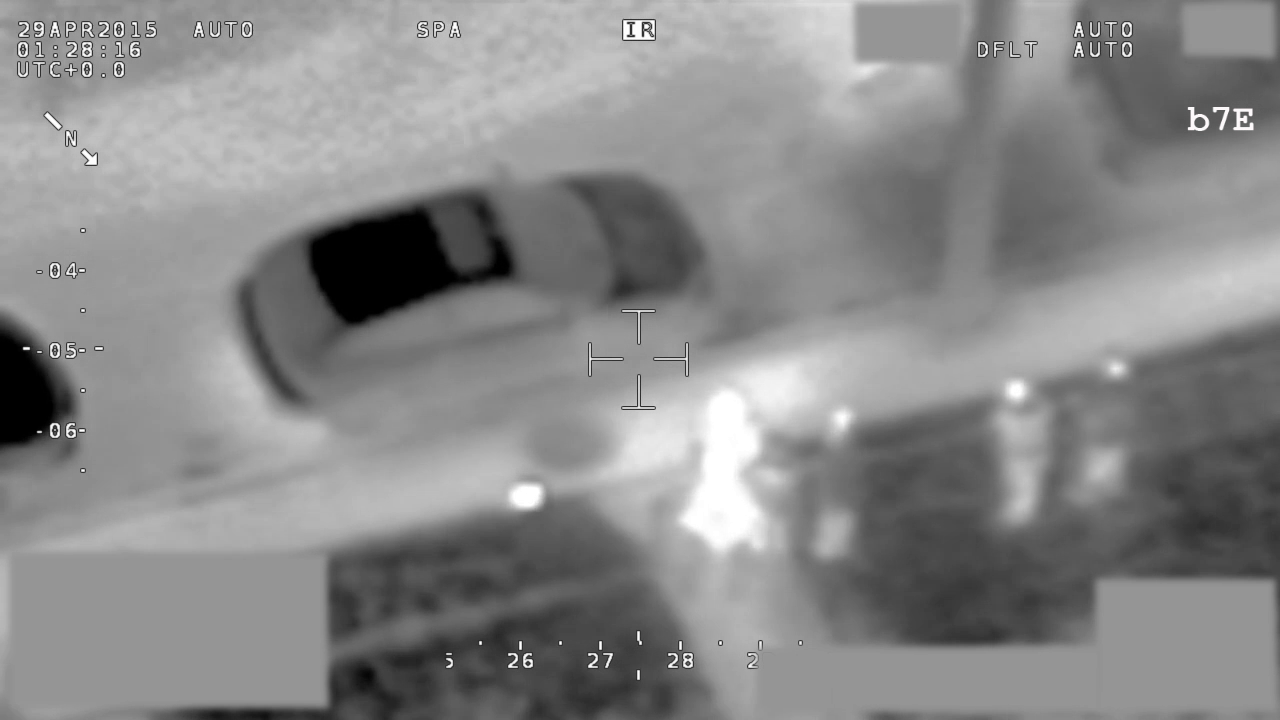vehicle: (237, 152, 719, 434), (1084, 1, 1280, 199), (1, 303, 81, 515)
